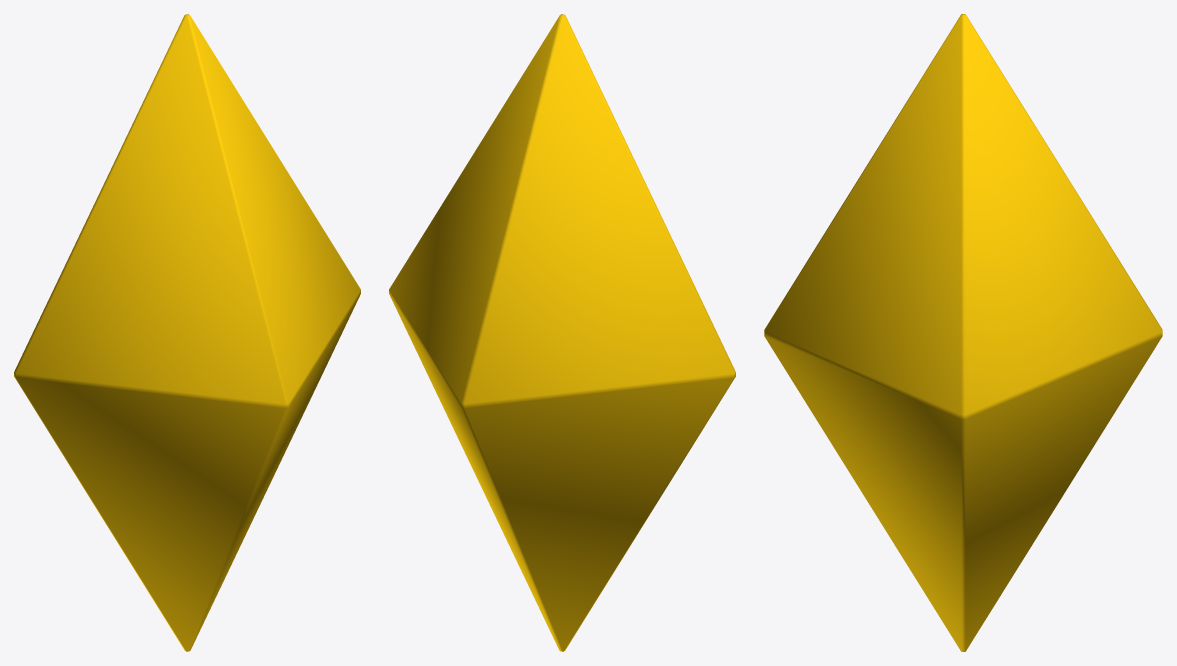
File: Item_EXP.fbx
The picture shows the model from 3 angles, left to right: view 1: azimuth 30°, elevation 25°; view 2: azimuth 150°, elevation 25°; view 3: azimuth 270°, elevation 25°; orthographic projection.
Parts seen in each view (by area): view 1: heart; view 2: heart; view 3: heart.
Part boxes in pixels (x1,y1,x2,y2): heart: (14, 14, 360, 651); heart: (389, 14, 735, 651); heart: (764, 14, 1162, 651).
Size of the model in its own units: 38.52 by 67.89 by 38.52.
